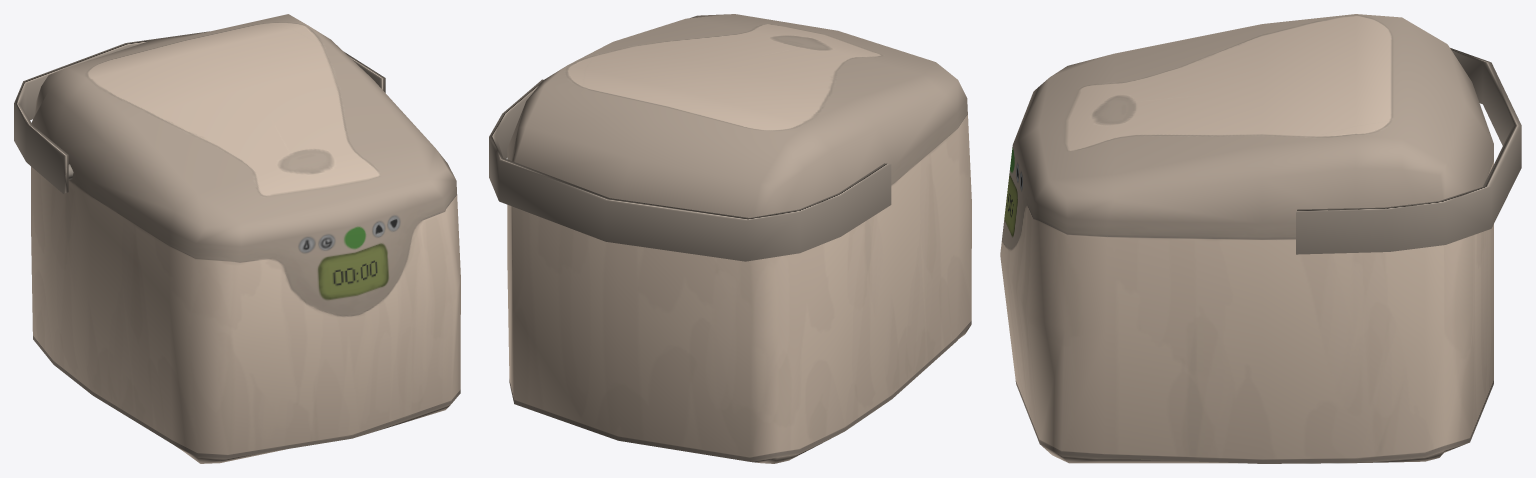
Rendered from Rice_cooker 1.fbx.
3 views of the same model, side by side, from view 1: azimuth 30°, elevation 25°; view 2: azimuth 150°, elevation 25°; view 3: azimuth 270°, elevation 25° (orthographic). The views are drawn at different scales.
Parts seen in each view (by area): view 1: polySurface1; view 2: polySurface1; view 3: polySurface1.
Boxes of the visible parts, x1=… form: polySurface1: x1=14, y1=14, x2=460, y2=463; polySurface1: x1=489, y1=14, x2=971, y2=463; polySurface1: x1=1000, y1=14, x2=1521, y2=463.
Bounding box in the file's own units: 0.3884 × 0.331 × 0.4863.
4 materials, 3 textured.
